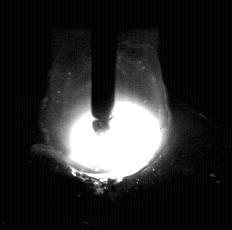arame: (92, 0, 116, 132)
poca: (39, 0, 172, 230)
